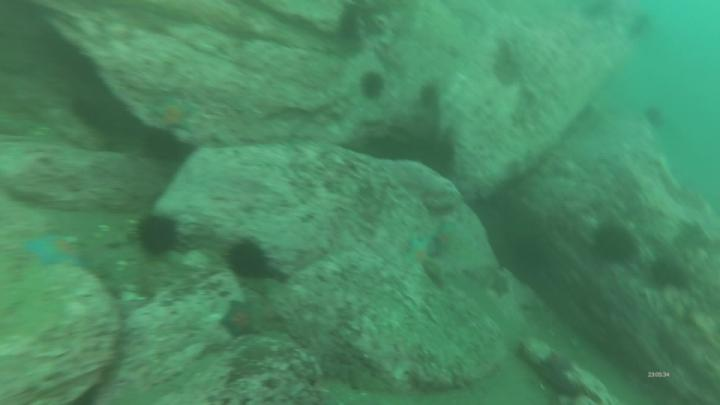echinus: (136, 209, 185, 259), (594, 213, 637, 266), (224, 235, 271, 281), (653, 254, 692, 289), (356, 67, 392, 101), (415, 80, 447, 113)
starfish: (16, 229, 81, 270), (155, 94, 198, 135), (675, 216, 716, 257), (222, 299, 260, 339), (542, 345, 577, 383), (408, 235, 430, 268), (492, 270, 513, 297)
